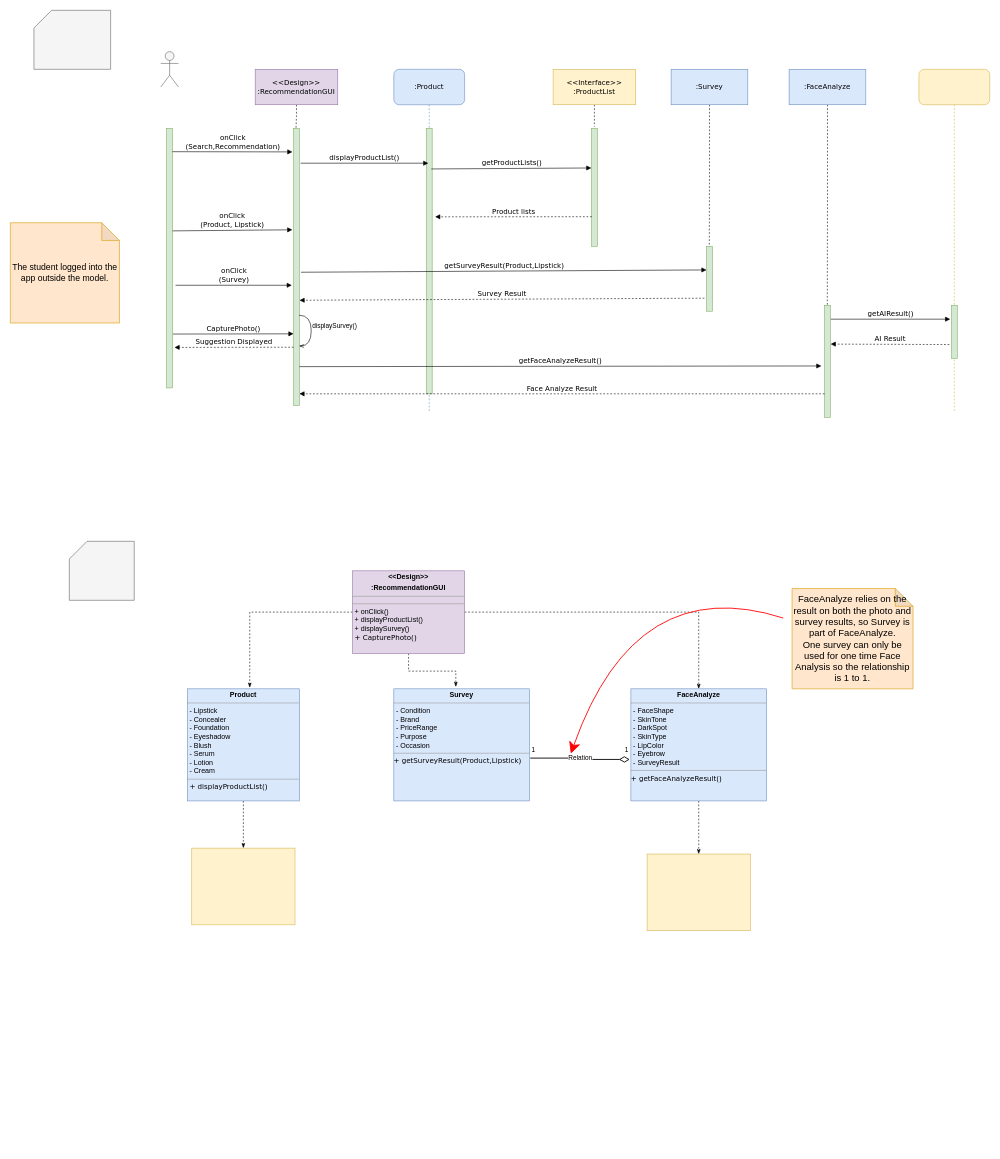
Some shapes in this 1000 by 1159 pixel diagram are drawn without their labels. Here are the shapes that lost their labels. From the top down, the centre of each, then its label:
At point 72,39: "CS682 O2 Chen Han Assignment 4 Sequence Diagram Draft".
At point 169,69: "Student (Potential User)".
At point 954,240: "<<Interface>> :AI_Analyze".
At point 101,570: "CS682 O2 Chen Han Assignment 4 Class Model Draft".
At point 243,886: "<<Interface>> ProductList + getProductLists()".
At point 698,892: "<<Interface>> AI_Analyze + getAIResult()".
